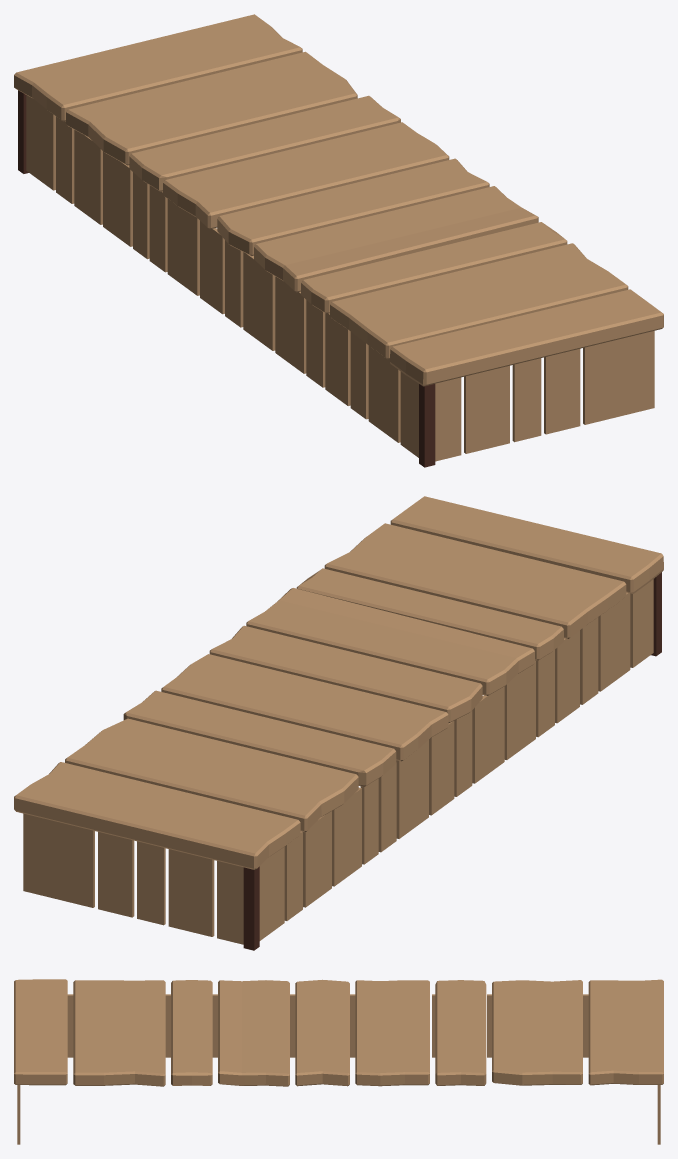
Rendered from small-foundation-a.glb.
3 views of the same model, one above another, from view 1: azimuth 30°, elevation 25°; view 2: azimuth 150°, elevation 25°; view 3: azimuth 270°, elevation 25° (orthographic). The views are drawn at different scales.
Visible parts, largest first — view 1: Small Foundation A (×2); view 2: Small Foundation A (×2); view 3: Small Foundation A.
Boxes of the visible parts, x1,y1,x2,y2 form: Small Foundation A (×2): [14, 14, 663, 467]; Small Foundation A (×2): [14, 496, 663, 950]; Small Foundation A: [14, 979, 663, 1144].
Size of the model in its own units: 1.15 by 0.4441 by 3.3.
